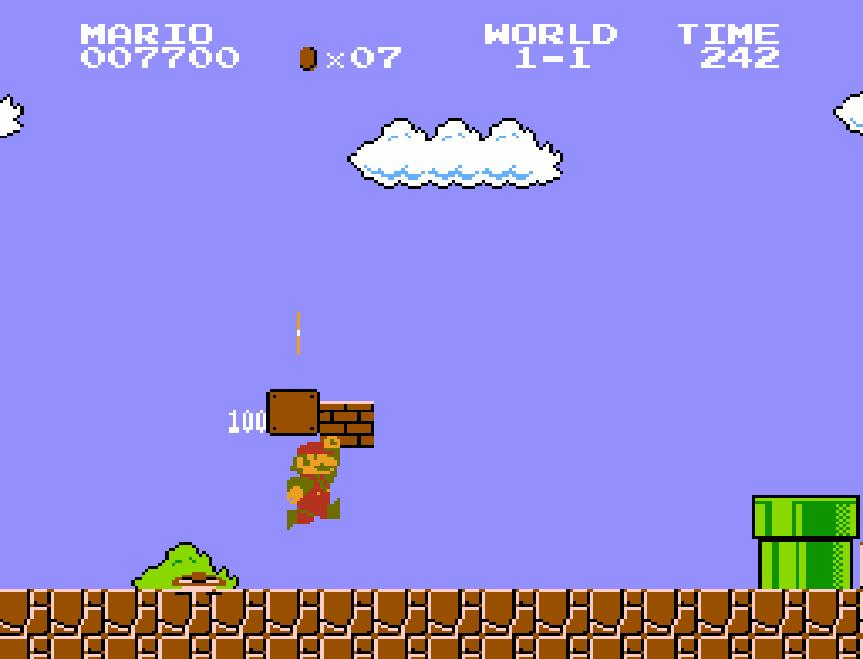big_mario: (284, 434, 342, 532)
